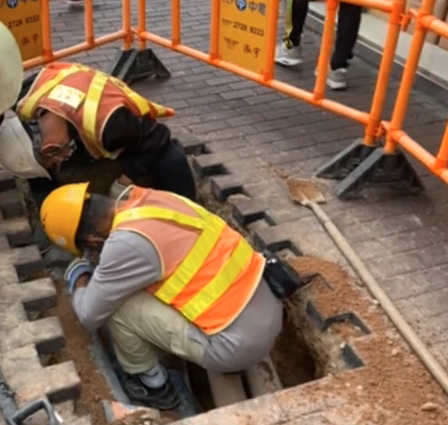Hard Hat: (2, 109, 79, 179), (40, 184, 110, 250)
Person: (43, 182, 285, 410), (3, 61, 191, 179)
Vest: (92, 186, 265, 329), (19, 62, 168, 156)
